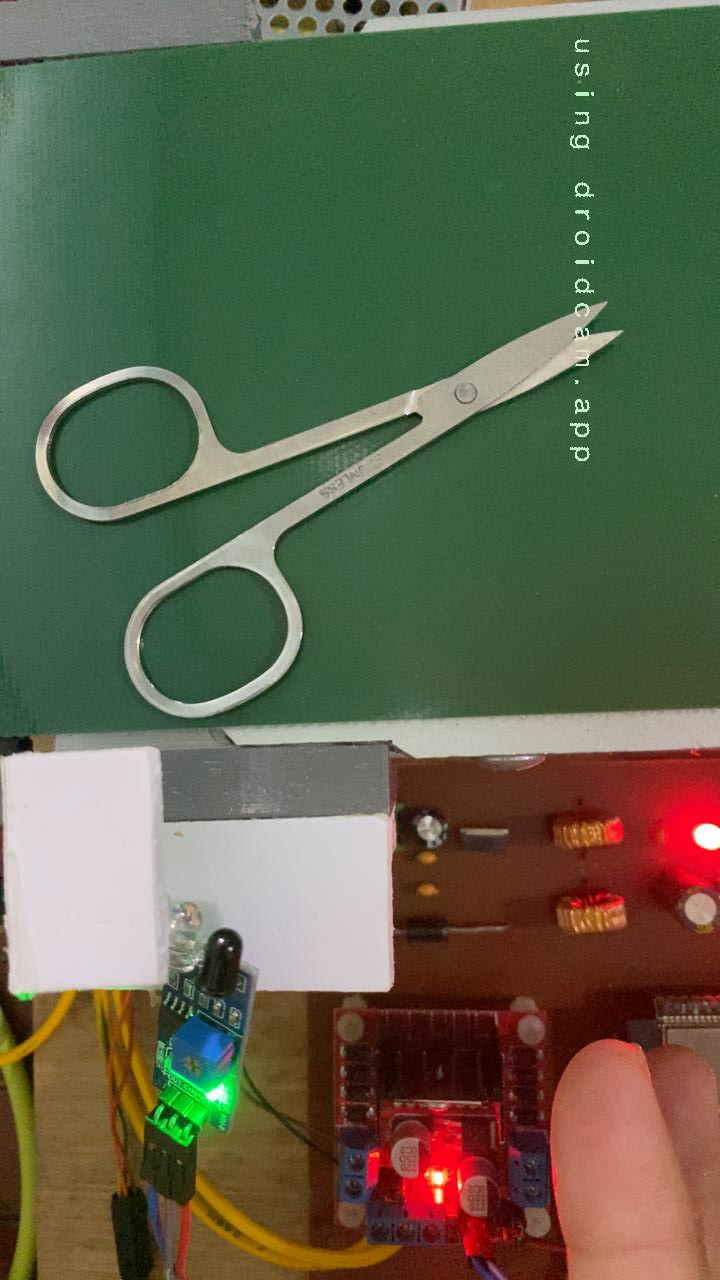scissor: (29, 297, 626, 723)
